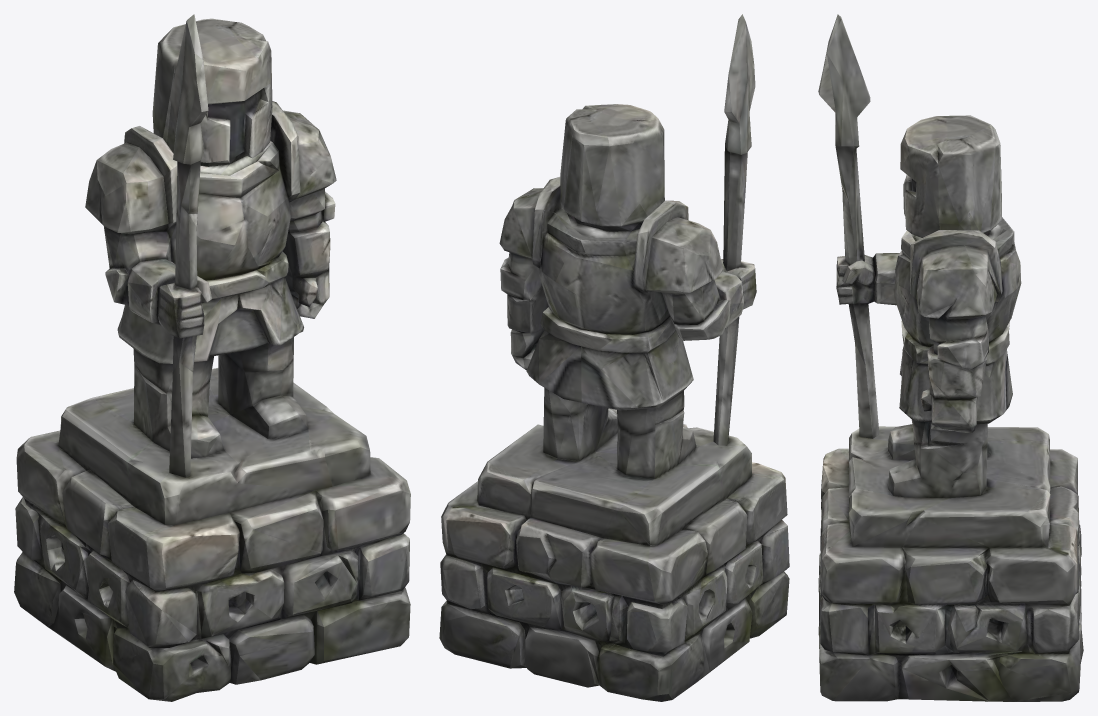
Rendered from dart_statue_3d.glb.
3 views of the same model, side by side, from view 1: azimuth 30°, elevation 25°; view 2: azimuth 150°, elevation 25°; view 3: azimuth 270°, elevation 25° (orthographic). The views are drawn at different scales.
Parts seen in each view (by area): view 1: Mesh_0; view 2: Mesh_0; view 3: Mesh_0.
Part boxes in pixels (x1,y1,x2,y2): Mesh_0: (14,14,410,701); Mesh_0: (439,14,789,701); Mesh_0: (818,14,1083,701).
Bounding box in the file's own units: 0.7693 × 1.88 × 0.7556.
1 material, 1 textured.
